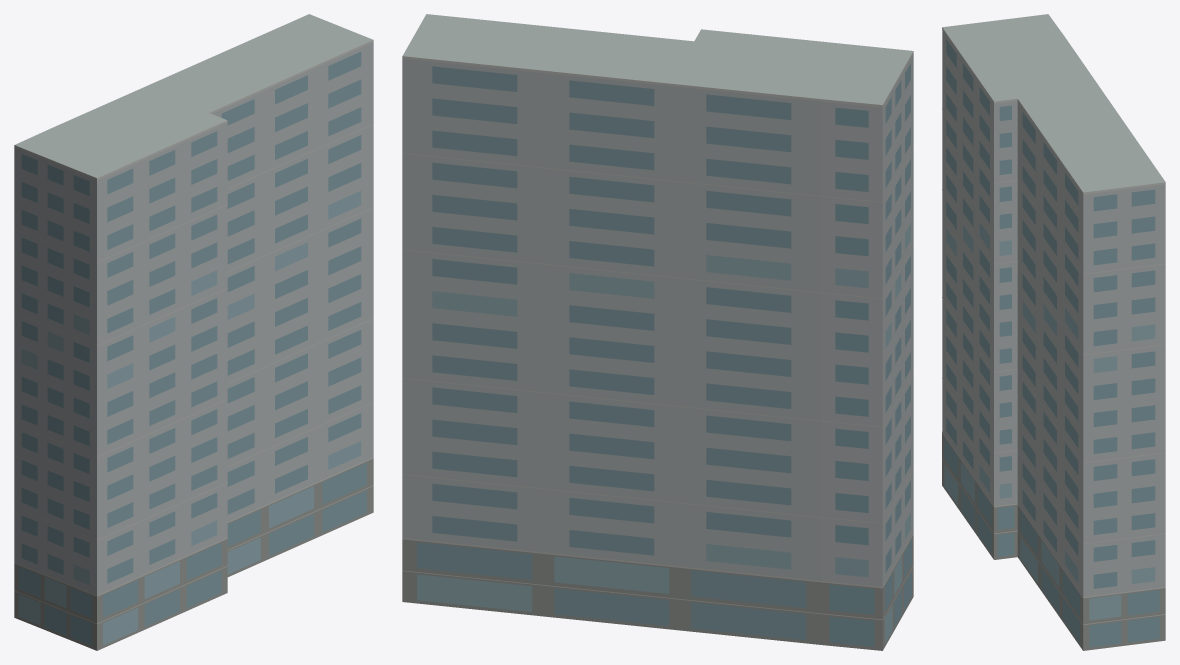
File: residential-ba39f331-4340-426c-8724-c748c4d60b47.glb
3 views of the same model, side by side, from view 1: azimuth 30°, elevation 25°; view 2: azimuth 150°, elevation 25°; view 3: azimuth 270°, elevation 25° (orthographic). The views are drawn at different scales.
Parts seen in each view (by area): view 1: residential-ba39f331-4340-426c-8724-c748c4d60b47.tmp; view 2: residential-ba39f331-4340-426c-8724-c748c4d60b47.tmp; view 3: residential-ba39f331-4340-426c-8724-c748c4d60b47.tmp.
Boxes of the visible parts, box(x1,y1,x2,y2) form: residential-ba39f331-4340-426c-8724-c748c4d60b47.tmp: box(14, 14, 373, 650); residential-ba39f331-4340-426c-8724-c748c4d60b47.tmp: box(402, 14, 913, 650); residential-ba39f331-4340-426c-8724-c748c4d60b47.tmp: box(942, 14, 1165, 650).
Size of the model in its own units: 45.12 by 54 by 23.89.
